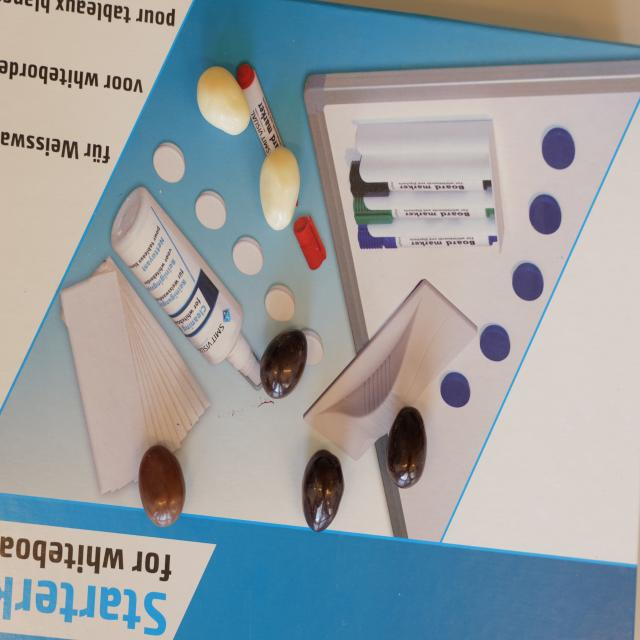Jelly_Black: (302, 449, 346, 534), (387, 406, 426, 491), (260, 328, 306, 398)
Jelly_Milk: (139, 445, 186, 528)
Jelly_White: (197, 64, 250, 134), (260, 147, 300, 232)
